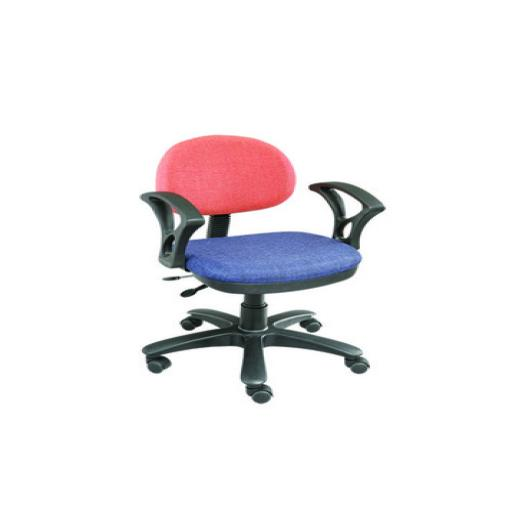chair: (100, 123, 396, 419)
